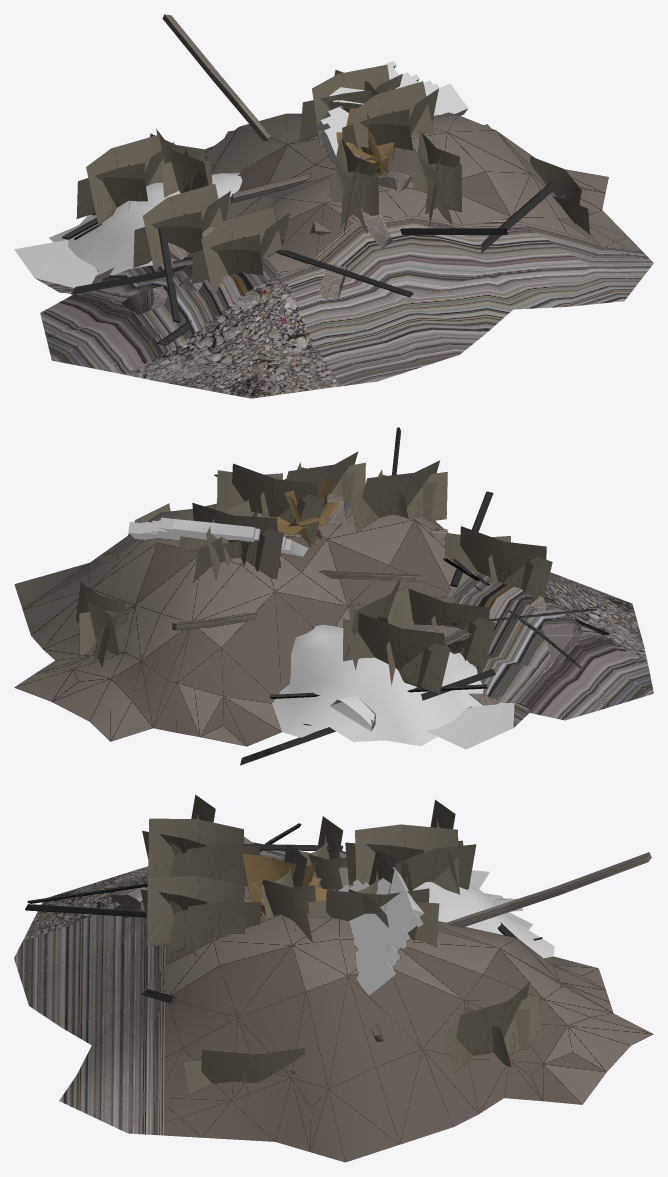
Rendered from shut big LOD0.fbx.
3 views of the same model, one above another, from view 1: azimuth 30°, elevation 25°; view 2: azimuth 150°, elevation 25°; view 3: azimuth 270°, elevation 25° (orthographic). The views are drawn at different scales.
Parts seen in each view (by area): view 1: polymsh72; view 2: polymsh72; view 3: polymsh72.
Boxes of the visible parts, x1=… form: polymsh72: x1=14, y1=14, x2=653, y2=398; polymsh72: x1=14, y1=427, x2=653, y2=765; polymsh72: x1=14, y1=794, x2=653, y2=1162.
Size of the model in its own units: 11.88 by 3.34 by 9.95.
